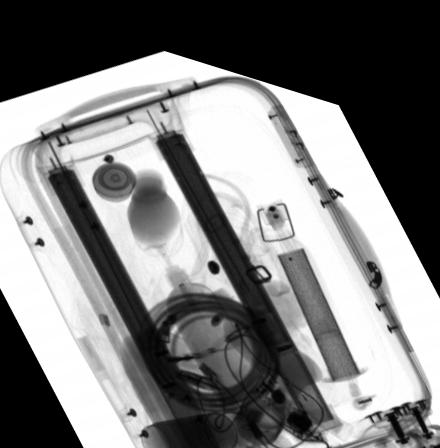Sprayer: (91, 155, 136, 195)
